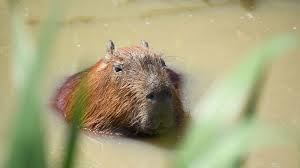capivara: (51, 40, 188, 149)
